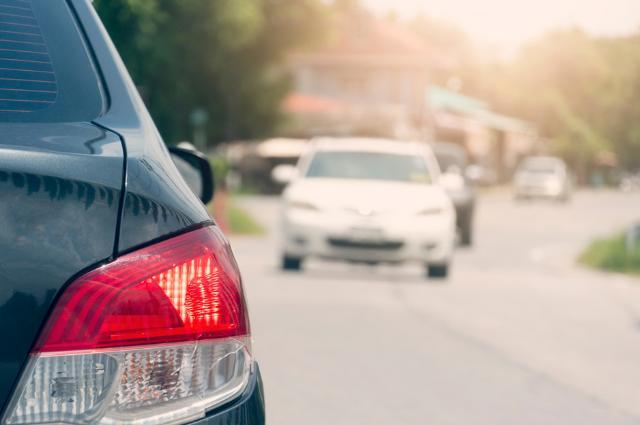Light: (90, 268, 254, 404)
